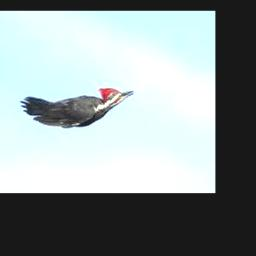Woodpecker: (19, 88, 133, 127)
